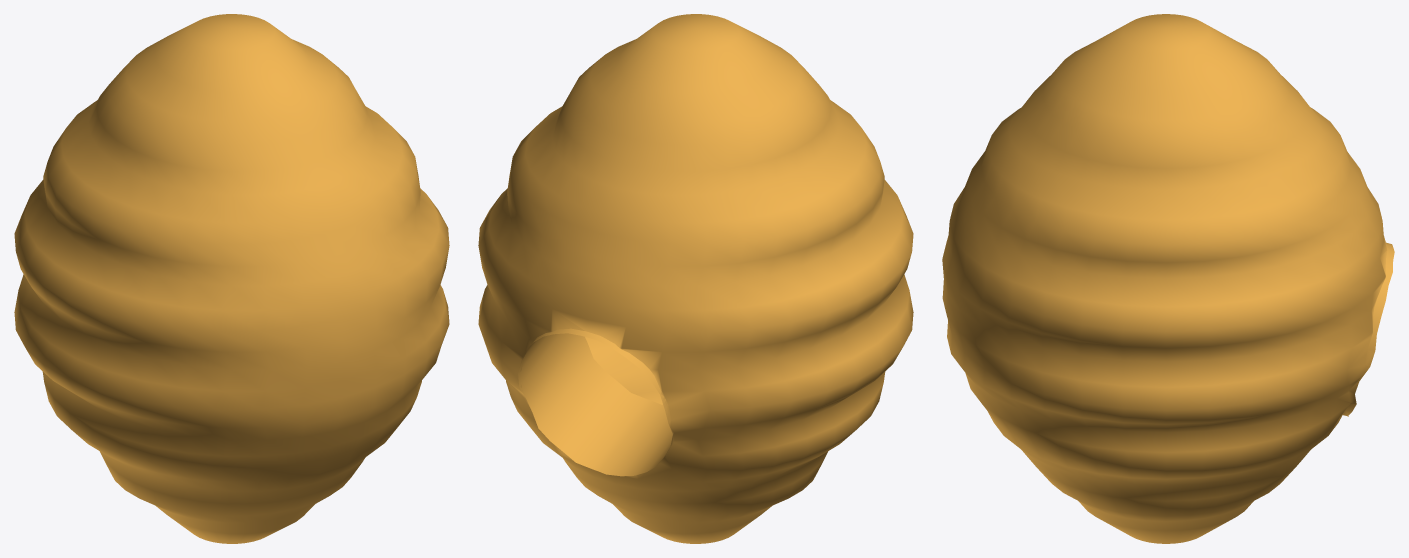
The model's file is beehive.fbx.
3 views of the same model, side by side, from view 1: azimuth 30°, elevation 25°; view 2: azimuth 150°, elevation 25°; view 3: azimuth 270°, elevation 25° (orthographic).
Parts seen in each view (by area): view 1: Sphere; view 2: Sphere, Circle; view 3: Sphere, Circle.
Part boxes in pixels (<box>): Sphere: <box>14,14,449,543</box>; Sphere: <box>478,14,913,543</box>; Circle: <box>518,328,672,476</box>; Sphere: <box>942,14,1387,543</box>; Circle: <box>1365,242,1394,367</box>.
Size of the model in its own units: 196 by 249 by 204.
